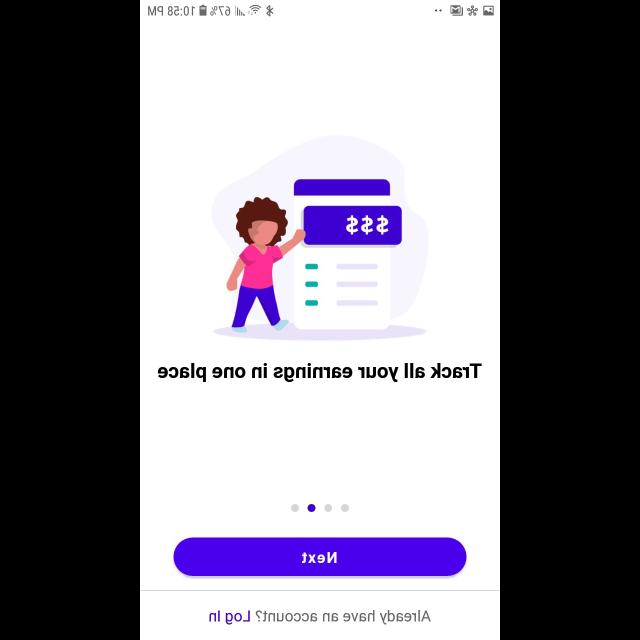image: (210, 135, 428, 341)
pageindicator: (291, 503, 349, 512)
text: (158, 362, 482, 382), (209, 610, 431, 624)
textbutton: (174, 538, 466, 576)
uppertaskbar: (140, 1, 500, 18)
